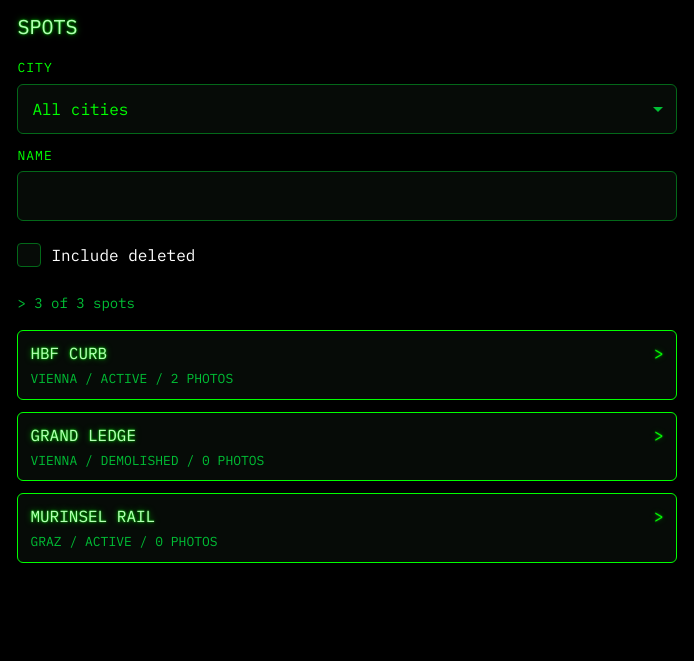
SpotListComponent › shows deleted spots, labelled, only with "include deleted" on
Click the checkbox labelled "Include deleted" at (29, 255), box [17,243,41,267]
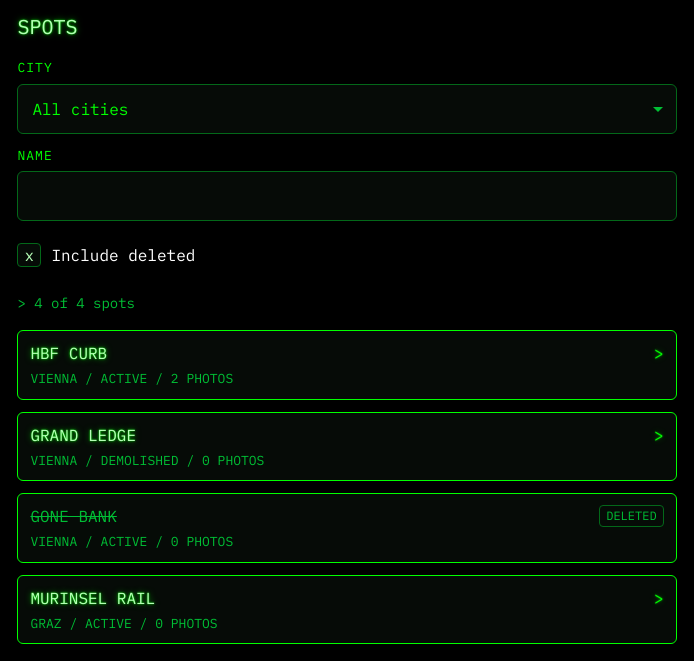
expect the text with test id "row-deleted" reads "Deleted": met, box [606,508,657,523]
